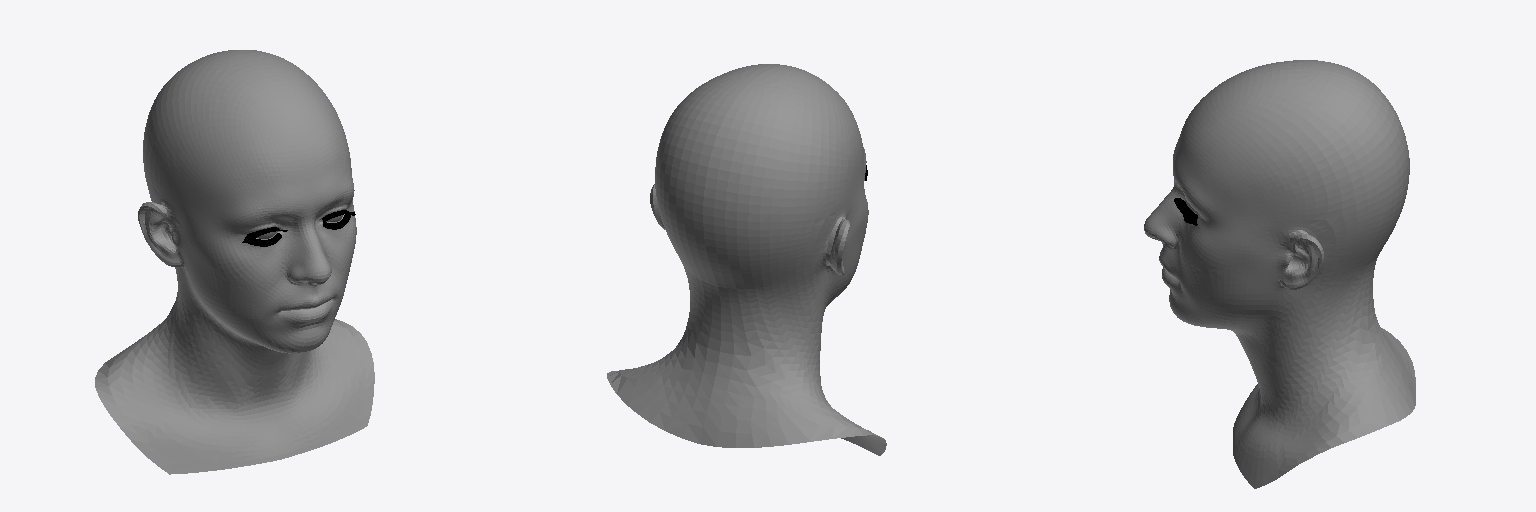
The model's file is identity055.obj.
3 renders of one model, left to right at view 1: azimuth 30°, elevation 25°; view 2: azimuth 150°, elevation 25°; view 3: azimuth 270°, elevation 25°, orthographic.
Size of the model in its own units: 24.89 by 33.77 by 22.33.